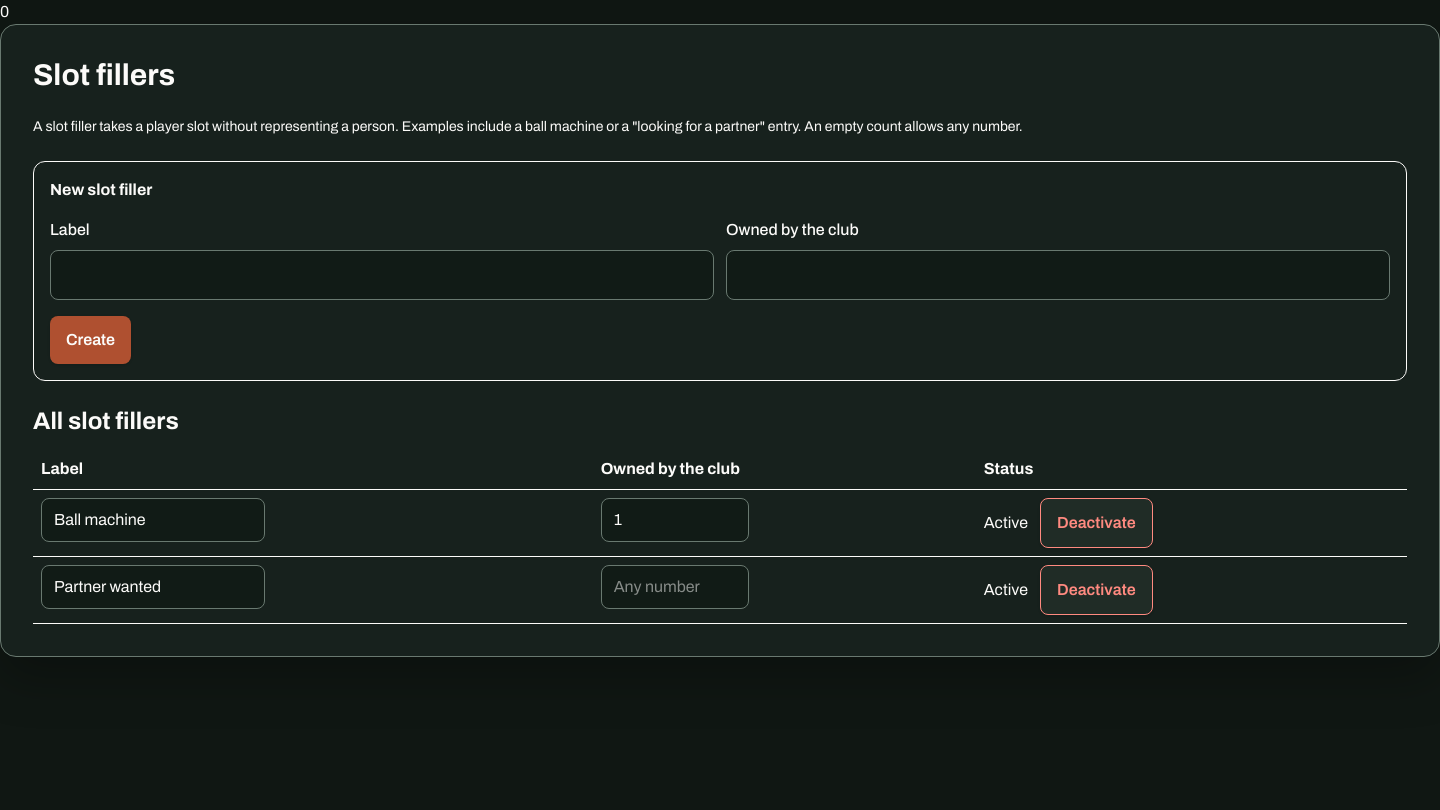
Scenario: AdminSlotFillersView › given two edited fillers, when the page is saved once, then each is written
The width and height of the screenshot is (1440, 810).
Step 1. Type "!" into the field with test id "edit-participant-card-label-filler-1" → (153, 520), box 41,498 -> 265,542
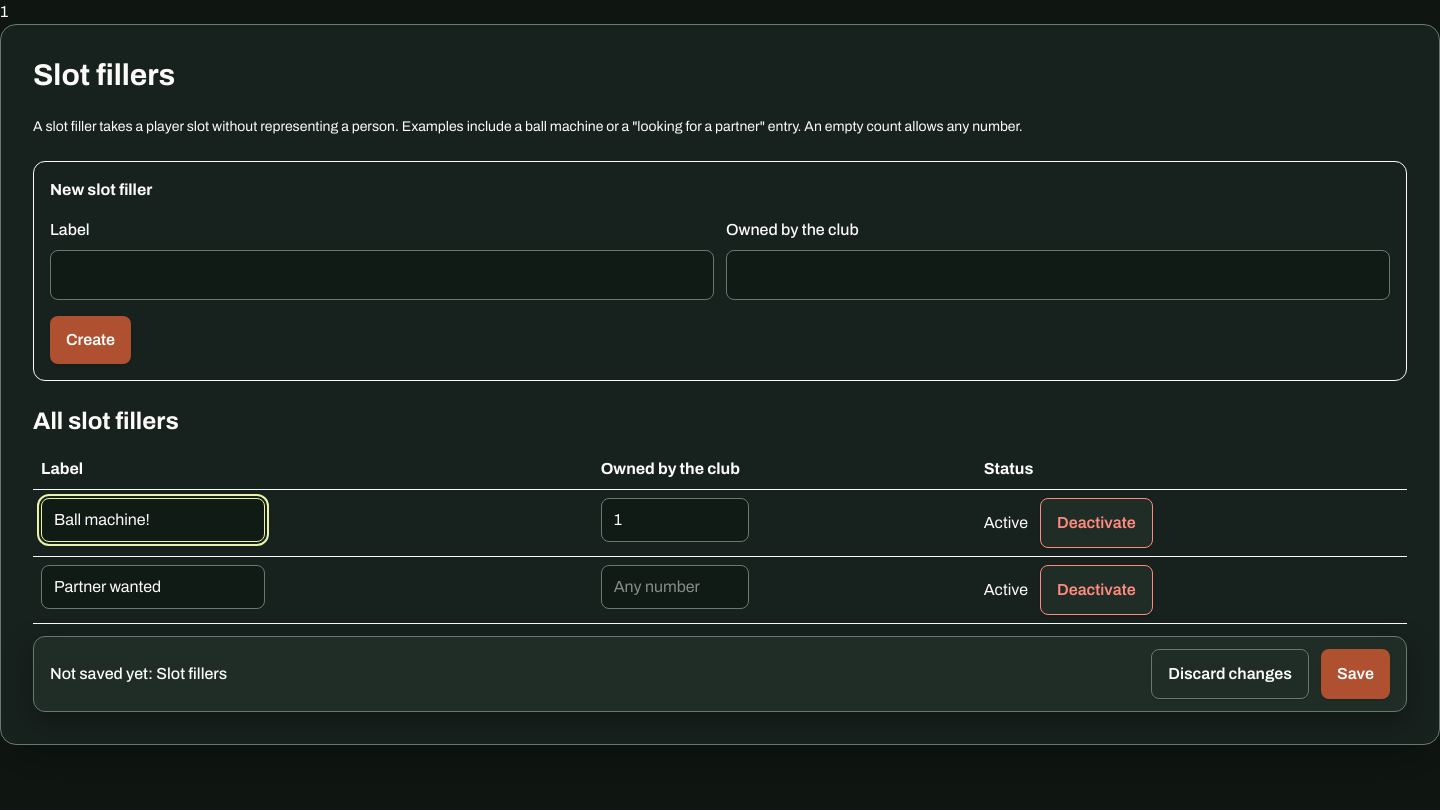
Step 2. Type "3" into the number field with test id "edit-participant-card-capacity-filler-2" → (675, 587), box 601,565 -> 749,609
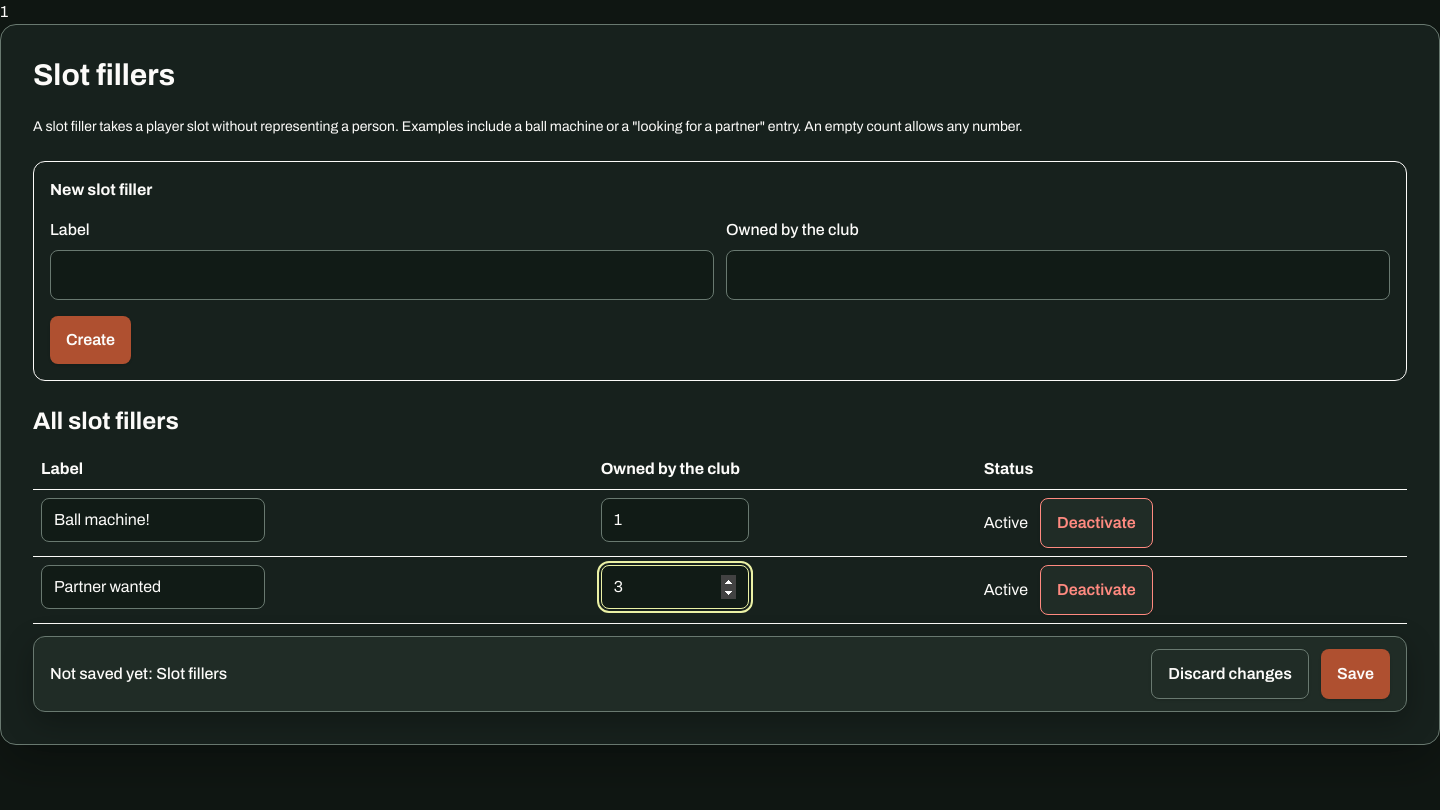
Check: the text with test id "unsaved-count" reads "1", box 0,3 -> 8,20
Step 3. Click the button with test id "save-slot-fillers" → (1356, 674), box 1321,649 -> 1390,699
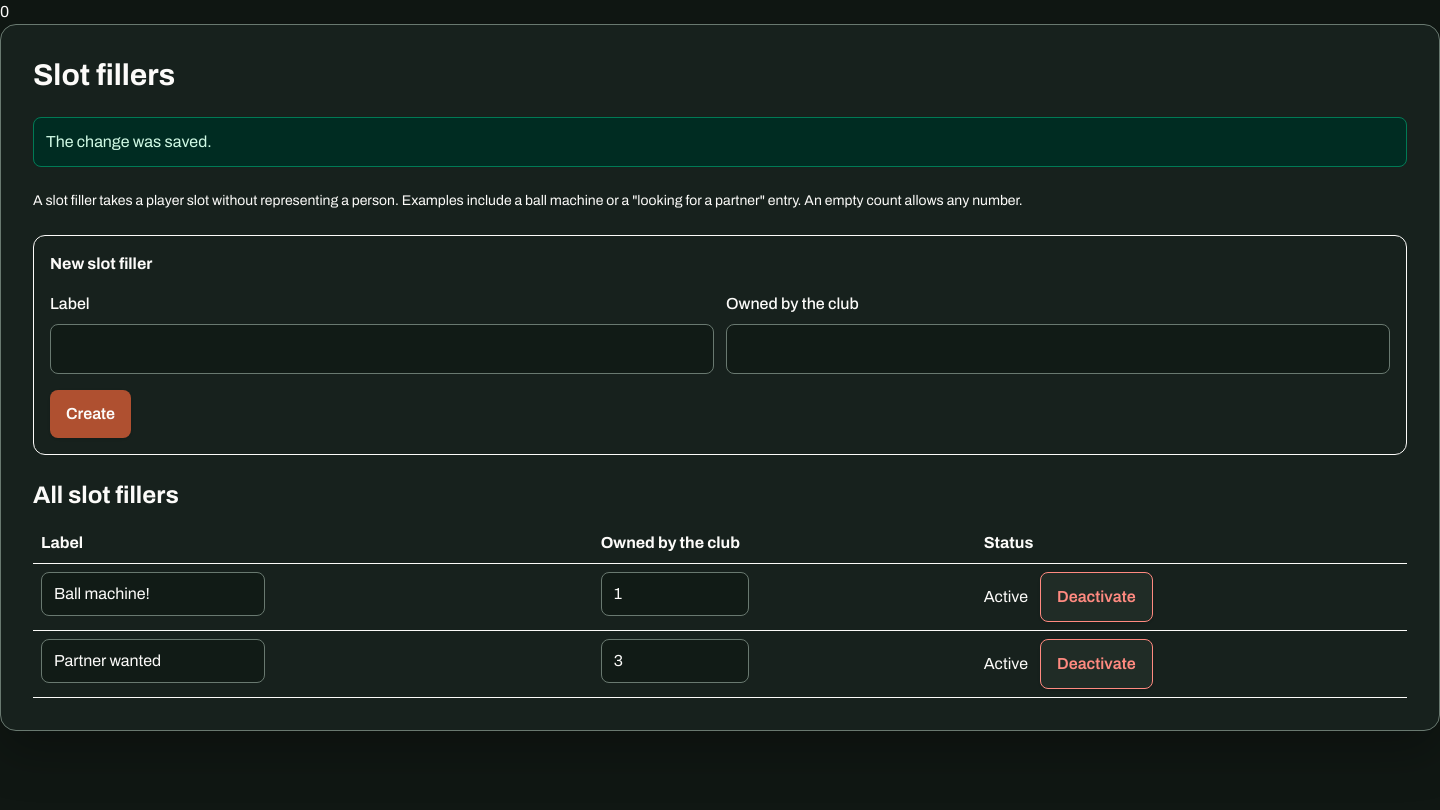
Check: the message "The change was saved." is shown, box 33,117 -> 1407,167
Check: the text with test id "unsaved-count" reads "0", box 0,3 -> 9,20
